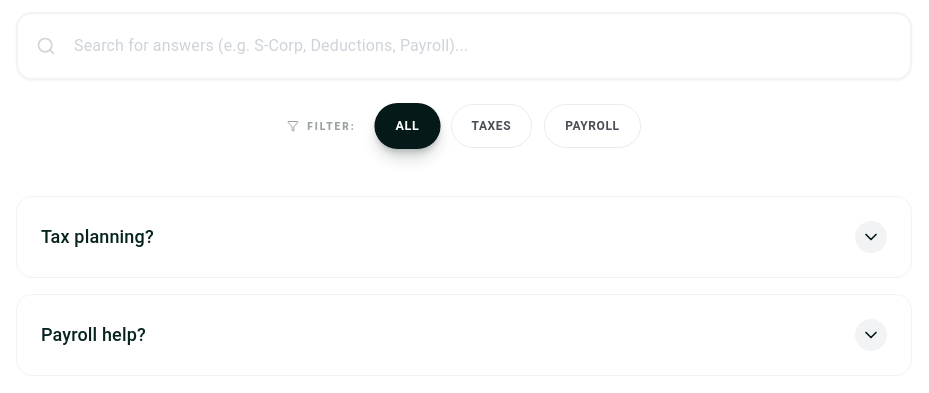
Scenario: FAQList filtering › shows answers from a newly selected outer category
This screenshot has width=929, height=393.
Click the button "Payroll" at (592,126), box [544,104,641,148]
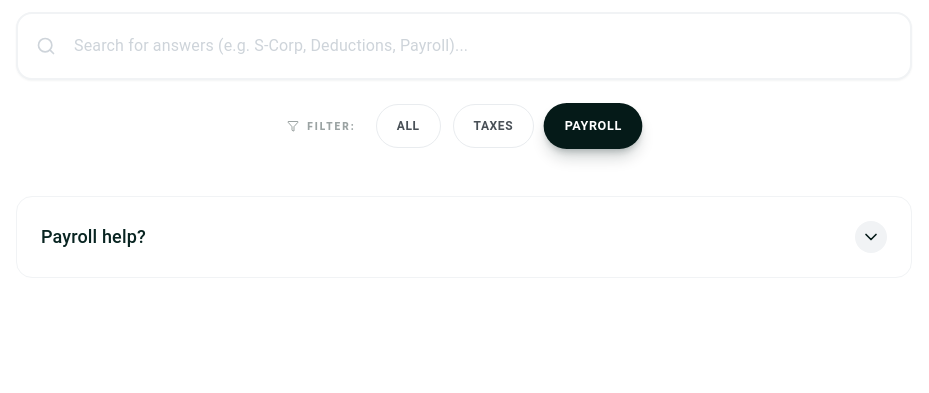
Check: the button "Payroll help?" is shown, box [17,197,911,277]
Check: the button "Tax planning?" is gone
